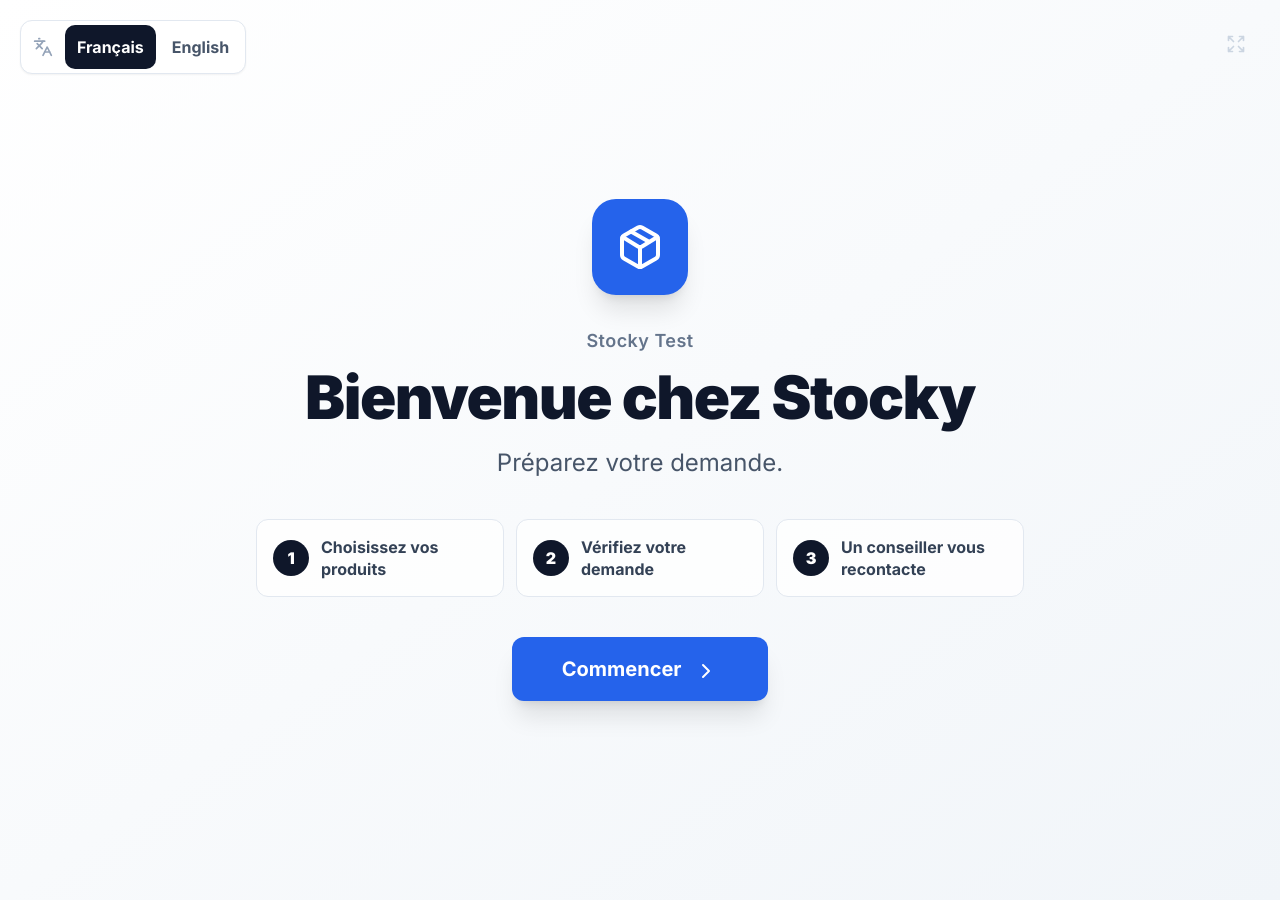
Test: KioskPage › lays out the catalogue with the configured number of products per row
What coordinates should you click on to do the following:
click the button "Commencer"
I would click on:
 (640, 669)
Its box is 512,637 -> 768,701.
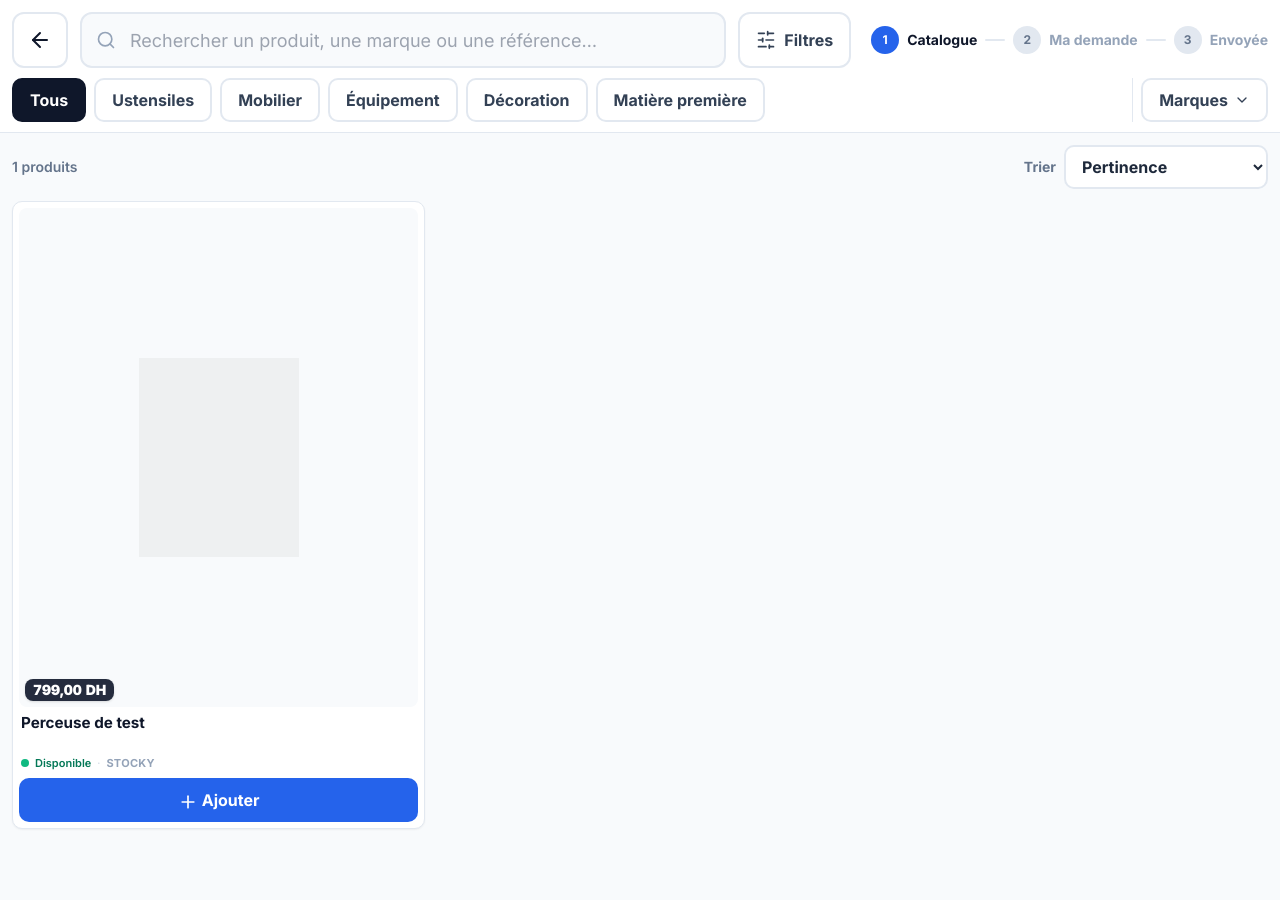
Expected: the heading "Perceuse de test" is shown, 21,713 -> 145,732
